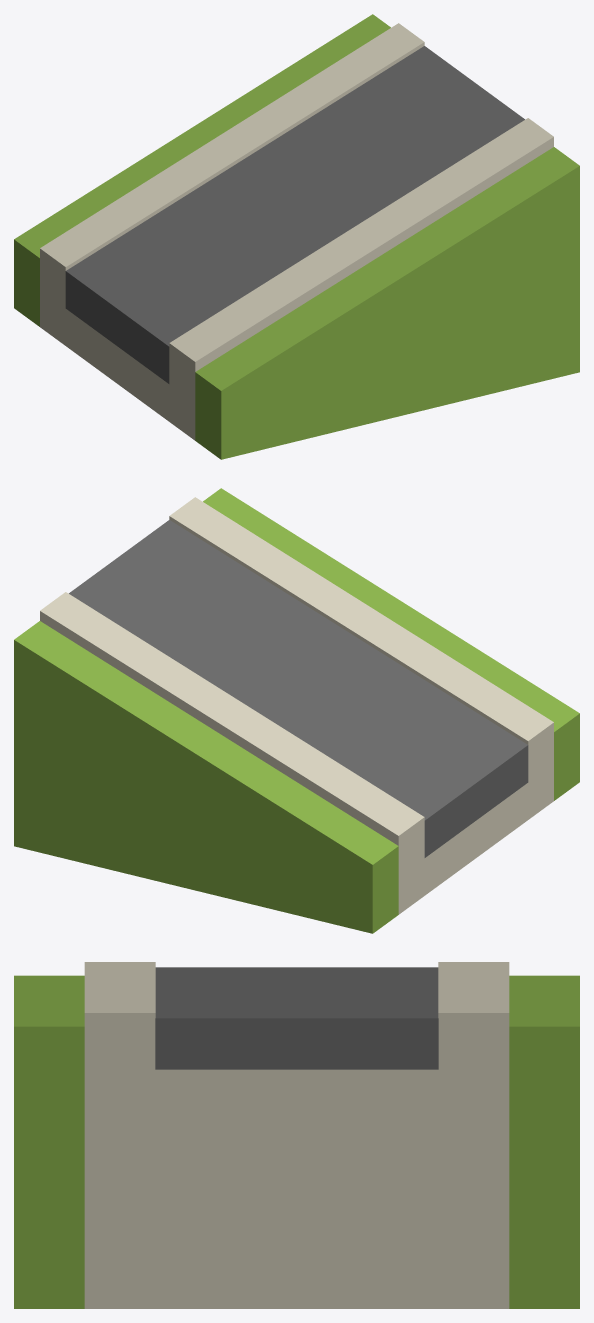
The model's file is tile071.fbx.
3 views of the same model, one above another, from view 1: azimuth 30°, elevation 25°; view 2: azimuth 150°, elevation 25°; view 3: azimuth 270°, elevation 25° (orthographic). The views are drawn at different scales.
Visible parts, largest first — view 1: tile071; view 2: tile071; view 3: tile071.
Part boxes in pixels (x1=…): tile071: x1=14, y1=14, x2=579, y2=459; tile071: x1=14, y1=488, x2=579, y2=933; tile071: x1=14, y1=962, x2=579, y2=1308.
Size of the model in its own units: 10 by 5.77 by 10.
